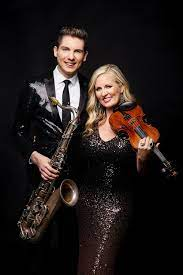Saxophone: (12, 84, 95, 247)
Violin: (102, 90, 179, 194)
